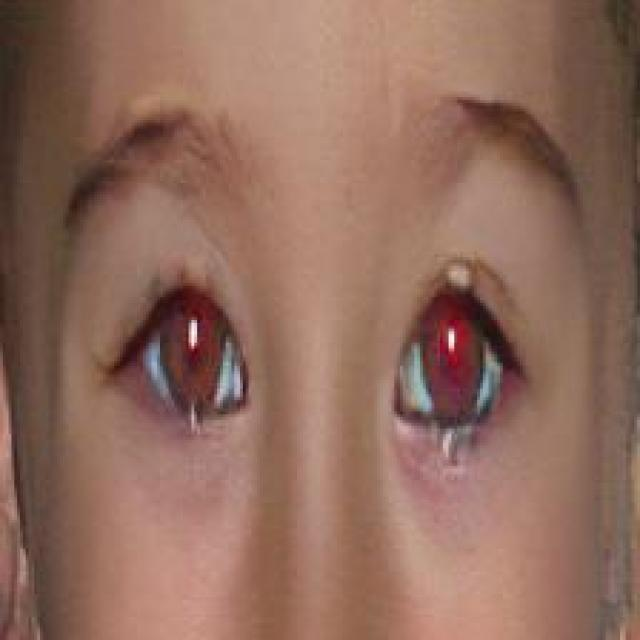reflexo-normal: (99, 284, 266, 452), (380, 264, 514, 439)
